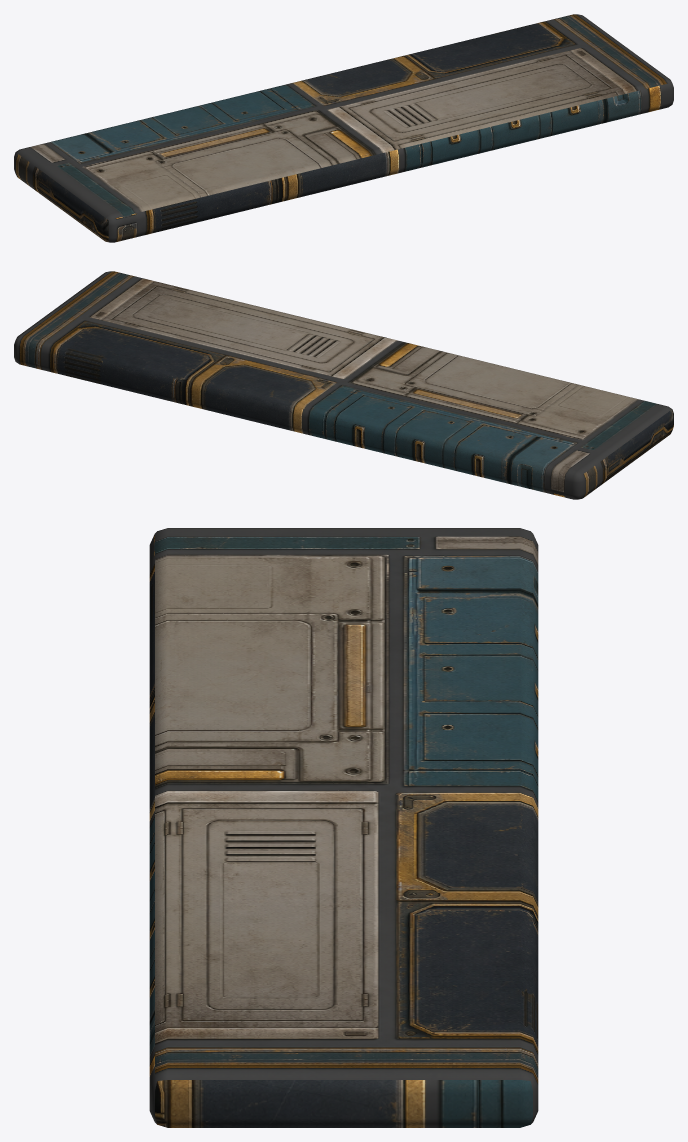
The model's file is hp_room_residential_ceiling_softbox.glb.
3 renders of one model, top to bottom at view 1: azimuth 30°, elevation 25°; view 2: azimuth 150°, elevation 25°; view 3: azimuth 270°, elevation 25°, orthographic. The views are drawn at different scales.
Parts seen in each view (by area): view 1: softbox_dark_upper_housing; view 2: softbox_dark_upper_housing; view 3: softbox_dark_upper_housing.
Boxes of the visible parts, x1,y1,x2,y2 form: softbox_dark_upper_housing: [14, 14, 673, 242]; softbox_dark_upper_housing: [14, 271, 673, 499]; softbox_dark_upper_housing: [149, 528, 538, 1127].
Bounding box in the file's own units: 3.81 × 0.1846 × 1.13.
5 materials, 2 textured.
